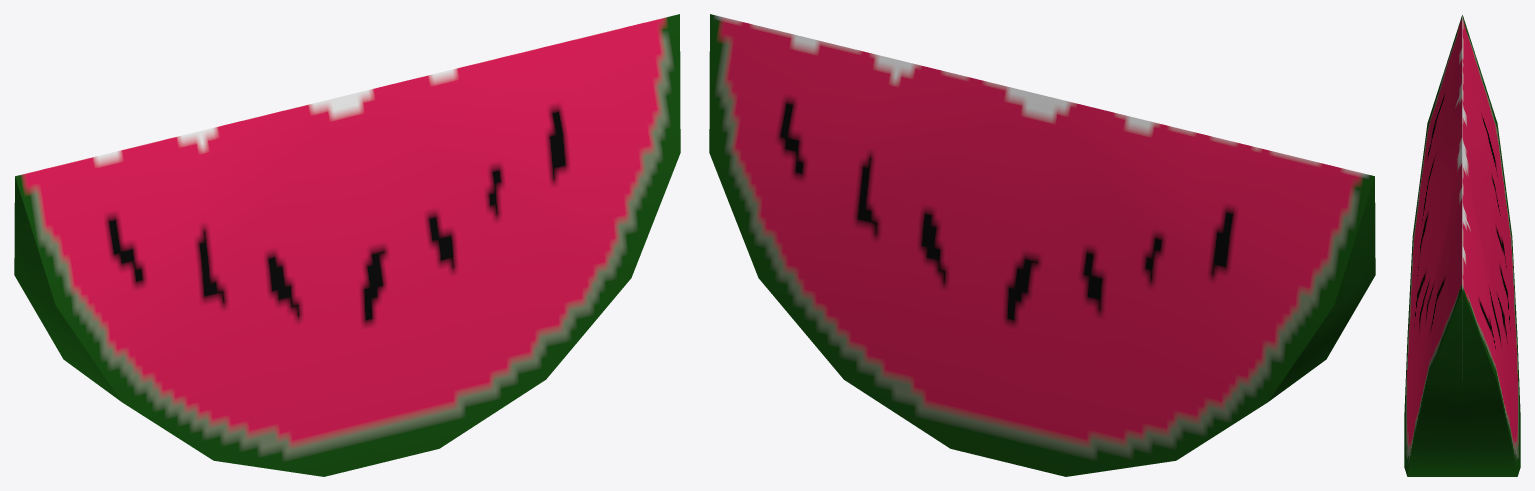
Rendered from Watermelon_ForImport.FBX.
3 renders of one model, left to right at view 1: azimuth 30°, elevation 25°; view 2: azimuth 150°, elevation 25°; view 3: azimuth 270°, elevation 25°, orthographic. The views are drawn at different scales.
Parts seen in each view (by area): view 1: Watermelon; view 2: Watermelon; view 3: Watermelon.
Boxes of the visible parts, x1,y1,x2,y2 form: Watermelon: (14, 14, 680, 476); Watermelon: (709, 14, 1375, 476); Watermelon: (1404, 14, 1520, 476).
Size of the model in its own units: 55.12 by 27.14 by 9.84.
